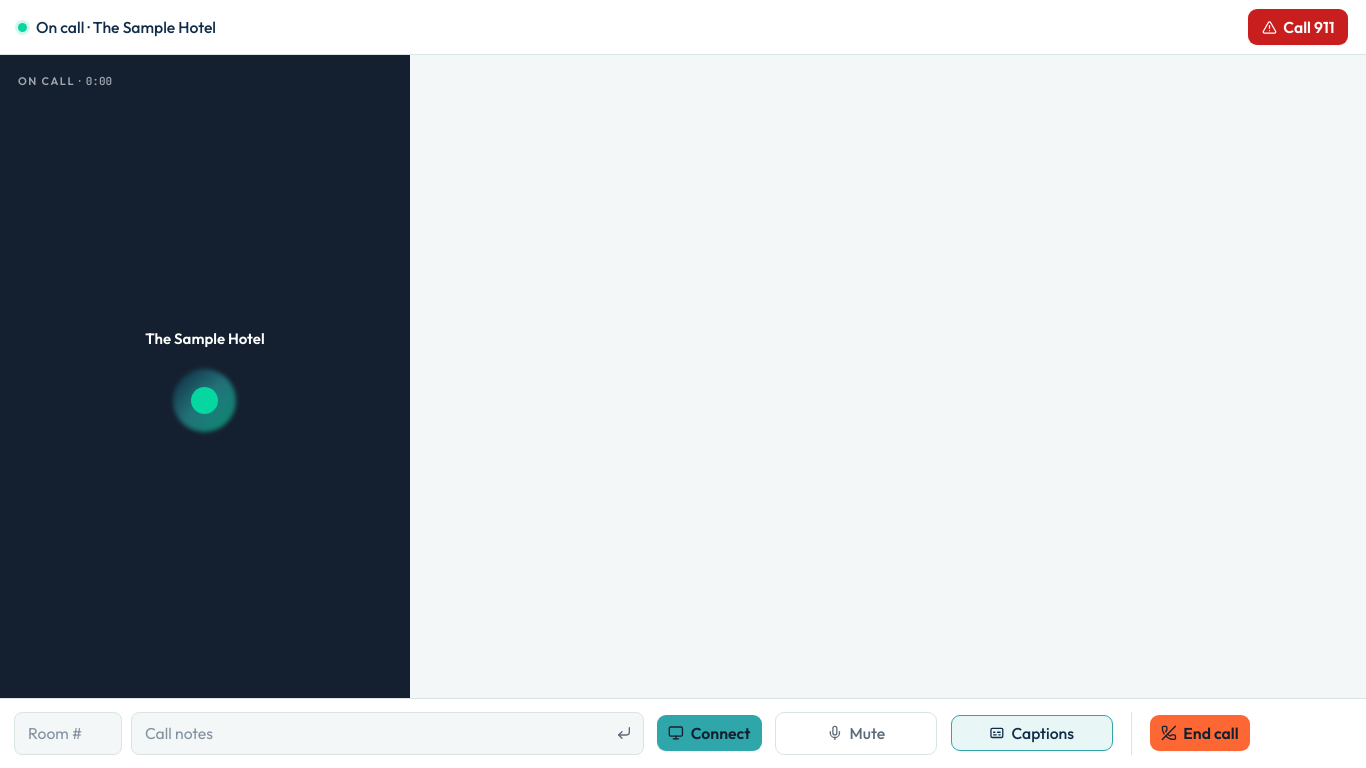
AudioCallOverlay › surfaces a failed remote-access launch instead of failing silently
Click the button "Connect".
click(709, 733)  # box [657, 715, 762, 751]
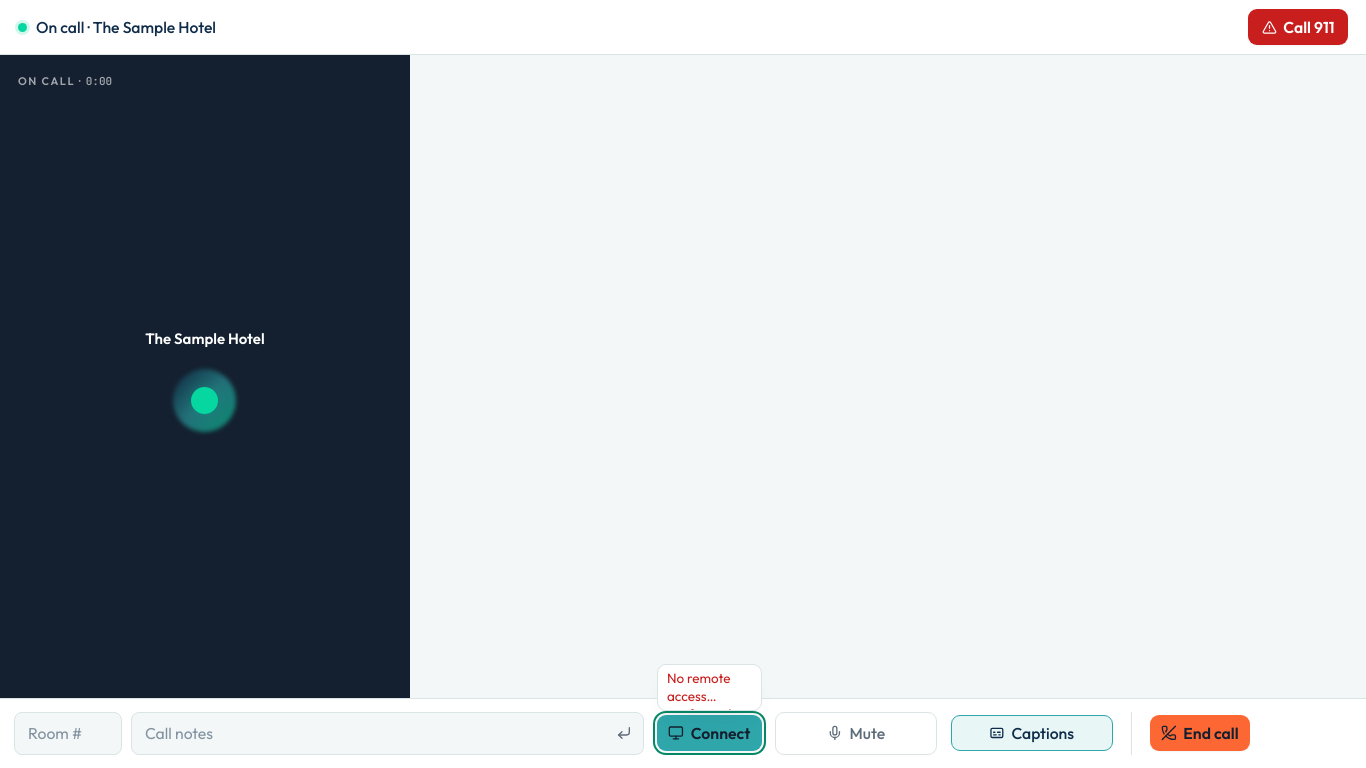
Expected: the message reads "No remote access configured. Ask an admin.", [667, 669, 751, 741]
